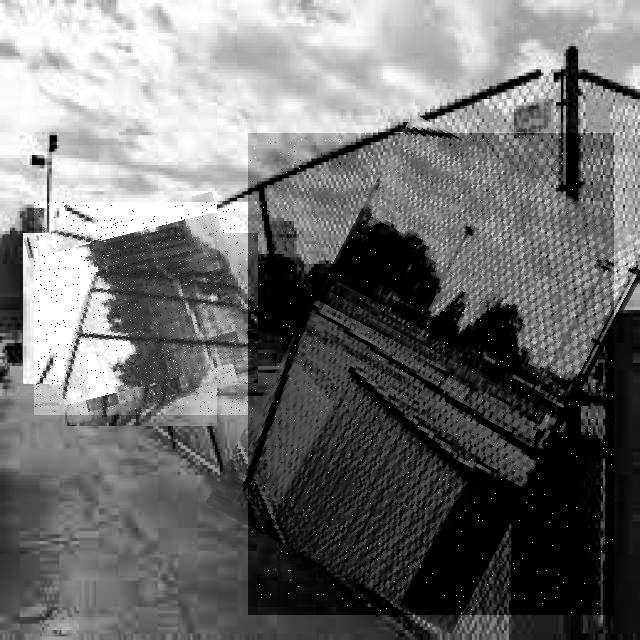anomaly-fence: (34, 202, 248, 415)
fences: (248, 133, 614, 615)
